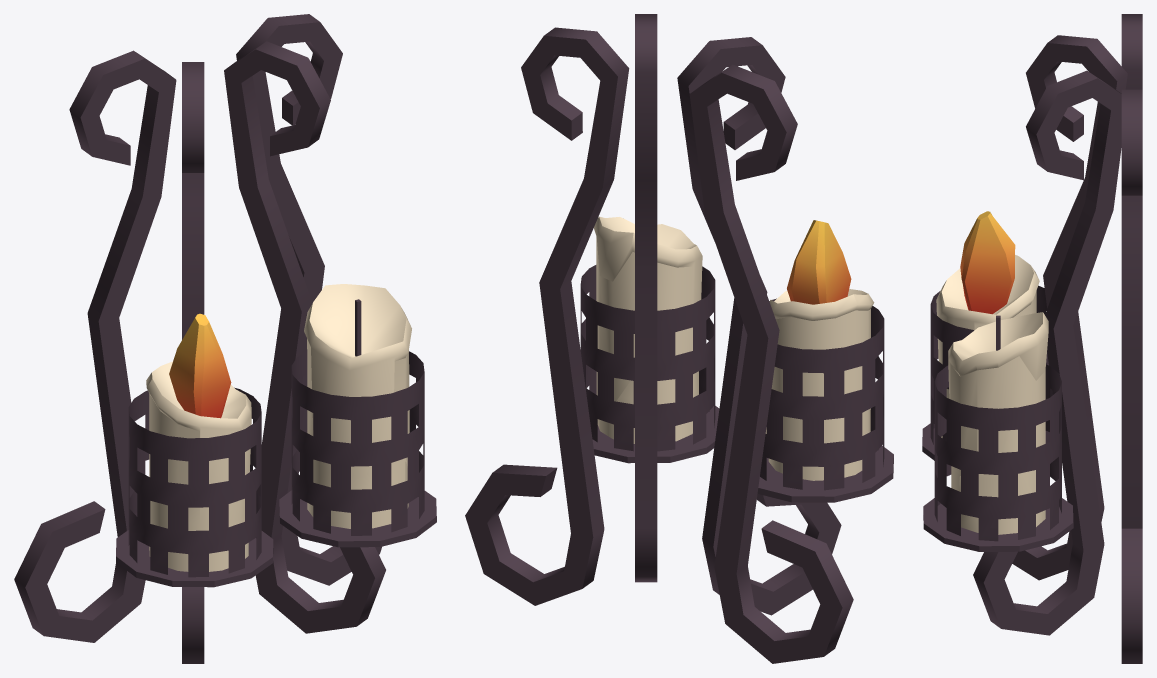
Rendered from candle2_test.fbx.
The picture shows the model from 3 angles, left to right: view 1: azimuth 30°, elevation 25°; view 2: azimuth 150°, elevation 25°; view 3: azimuth 270°, elevation 25°; orthographic projection. The views are drawn at different scales.
Visible parts, largest first — view 1: candlestick; view 2: candlestick; view 3: candlestick.
Boxes of the visible parts, x1,y1,x2,y2 form: candlestick: [14, 14, 436, 663]; candlestick: [465, 14, 893, 663]; candlestick: [922, 14, 1142, 663].
Bounding box in the file's own units: 113 × 165 × 60.61.
